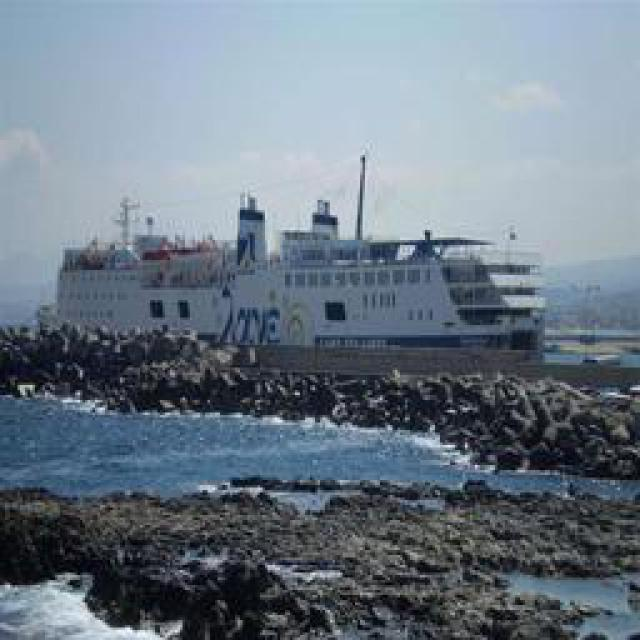Ship: (38, 162, 563, 382)
